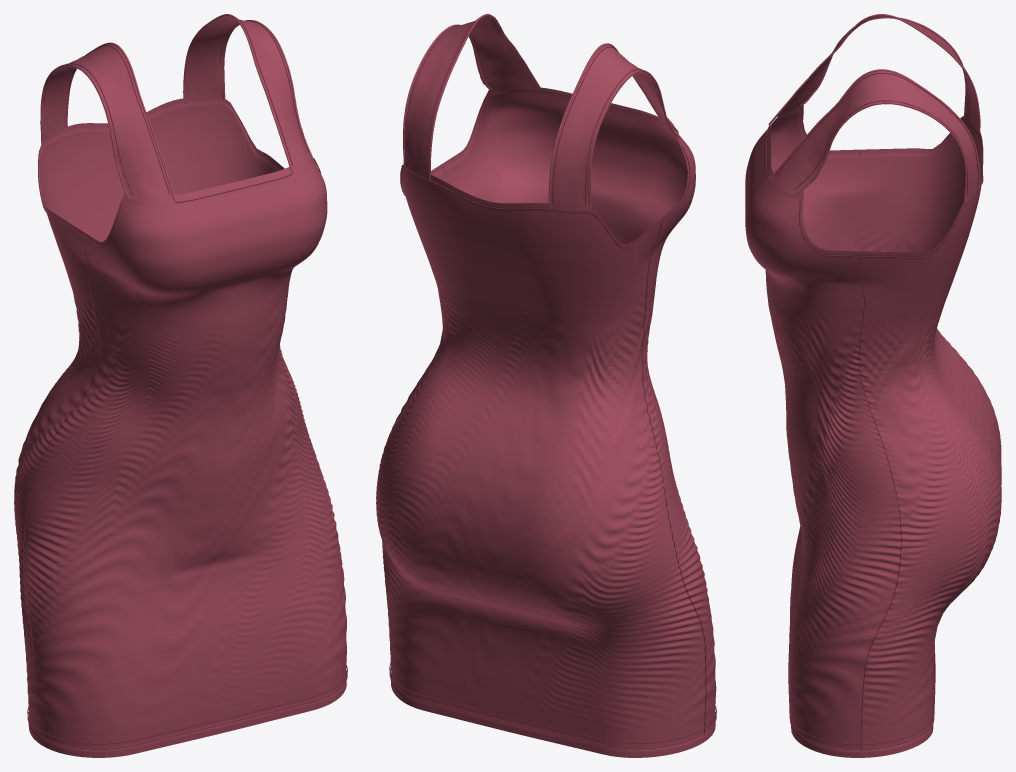
Rendered from vestido-mini-plisado_XXS.glb.
3 renders of one model, left to right at view 1: azimuth 30°, elevation 25°; view 2: azimuth 150°, elevation 25°; view 3: azimuth 270°, elevation 25°, orthographic. The views are drawn at different scales.
Visible parts, largest first — view 1: vestido, tirante (×2), pespunte (×3), tirante-borde (×3); view 2: vestido, tirante (×2), pespunte (×3), tirante-borde (×2); view 3: vestido, tirante (×2), tirante-borde (×3), pespunte (×3).
Boxes of the visible parts, x1=… form: vestido: x1=14, y1=95, x2=346, y2=757; tirante (×2): x1=41, y1=14, x2=310, y2=204; pespunte (×3): x1=22, y1=233, x2=347, y2=749; tirante-borde (×3): x1=40, y1=14, x2=293, y2=202; vestido: x1=376, y1=86, x2=716, y2=757; tirante (×2): x1=404, y1=14, x2=678, y2=211; pespunte (×3): x1=389, y1=221, x2=716, y2=749; tirante-borde (×2): x1=429, y1=14, x2=680, y2=212; vestido: x1=745, y1=105, x2=1001, y2=757; tirante (×2): x1=769, y1=14, x2=979, y2=204; tirante-borde (×3): x1=768, y1=14, x2=980, y2=204; pespunte (×3): x1=774, y1=73, x2=979, y2=751.
Size of the model in its own units: 0.3767 by 0.785 by 0.2825.
